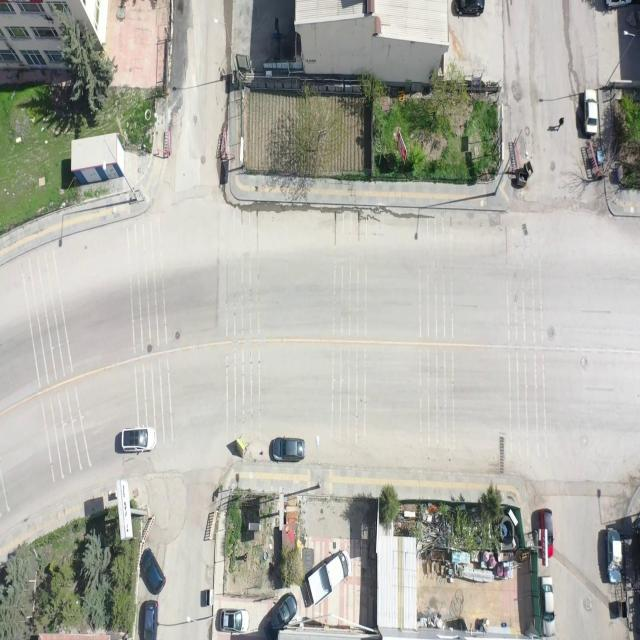p3rson: (557, 118, 564, 132), (243, 552, 248, 562)
